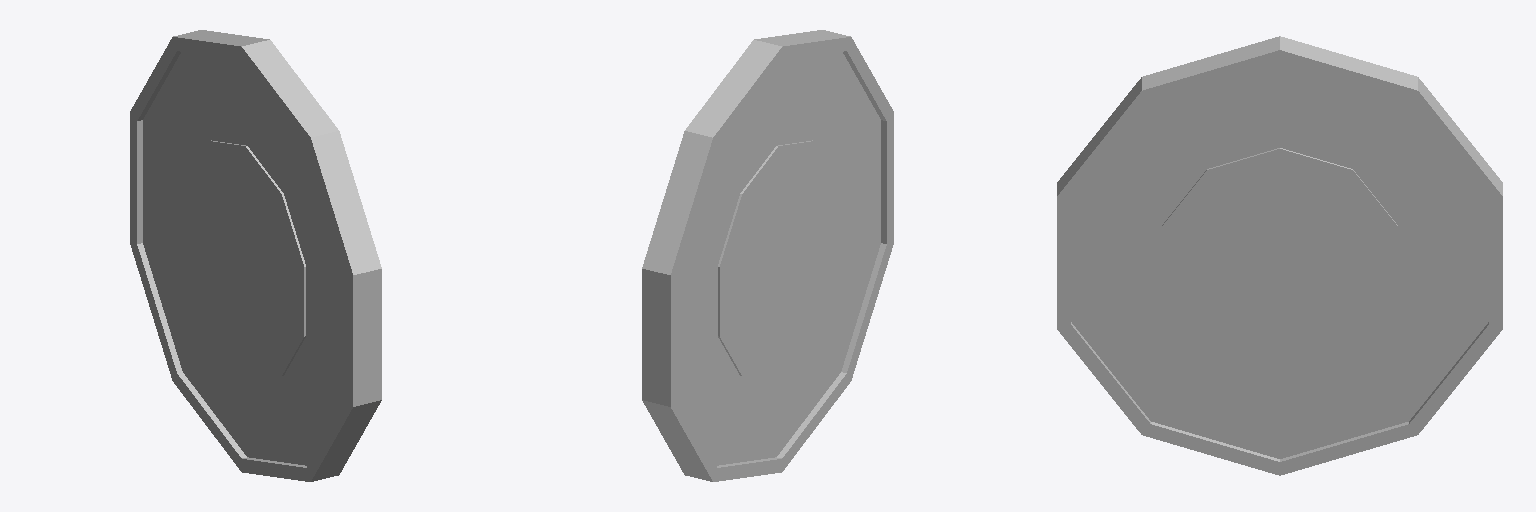
File: moeda.obj
3 views of the same model, side by side, from view 1: azimuth 30°, elevation 25°; view 2: azimuth 150°, elevation 25°; view 3: azimuth 270°, elevation 25° (orthographic).
Parts seen in each view (by area): view 1: Cylinder; view 2: Cylinder; view 3: Cylinder.
Boxes of the visible parts, box(x1,y1,x2,y2) form: Cylinder: box(130, 30, 381, 481); Cylinder: box(642, 30, 893, 481); Cylinder: box(1057, 36, 1502, 475).
Size of the model in its own units: 0.1407 by 2 by 1.9.